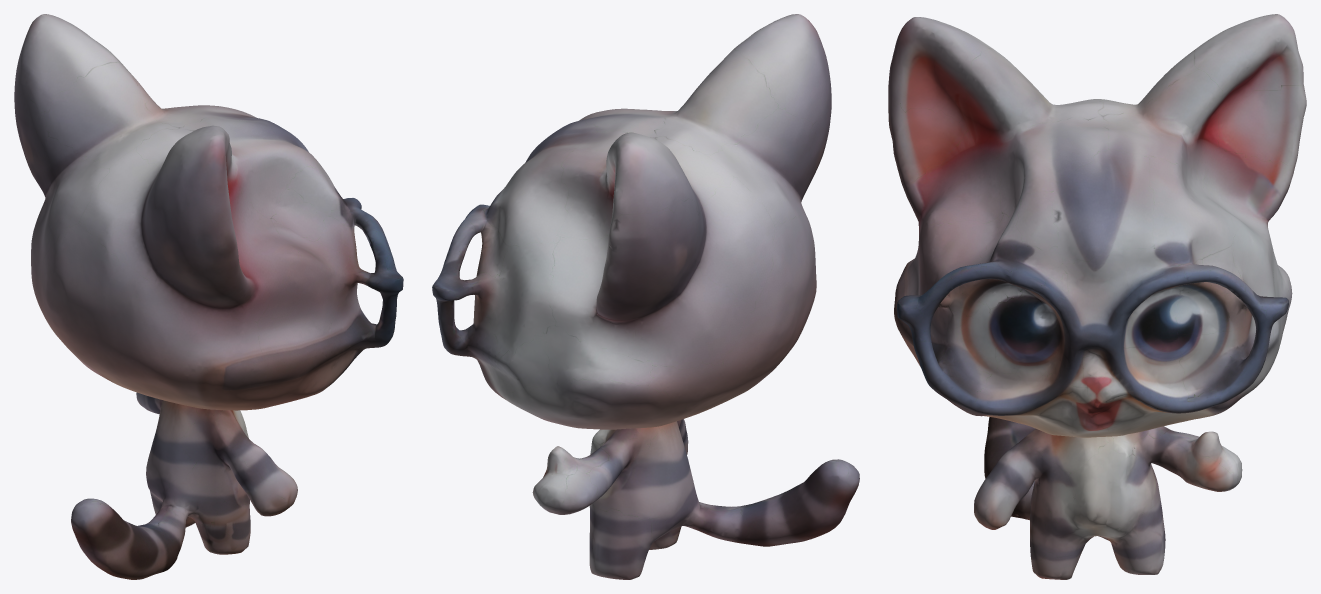
File: cat.glb
3 renders of one model, left to right at view 1: azimuth 30°, elevation 25°; view 2: azimuth 150°, elevation 25°; view 3: azimuth 270°, elevation 25°, orthographic. The views are drawn at different scales.
Bounding box in the file's own units: 0.7922 × 1.2 × 0.8777.
Materials: 1 (1 with a texture image).
